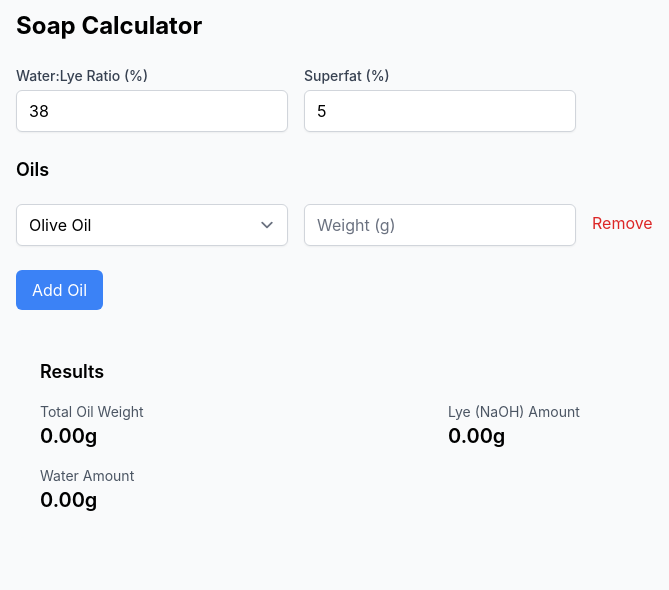
Test: Calculator Component › can remove oils
The image size is (669, 590).
Click the button "Add Oil" at (60, 290), box top-left (16, 270), bottom-right (103, 310)
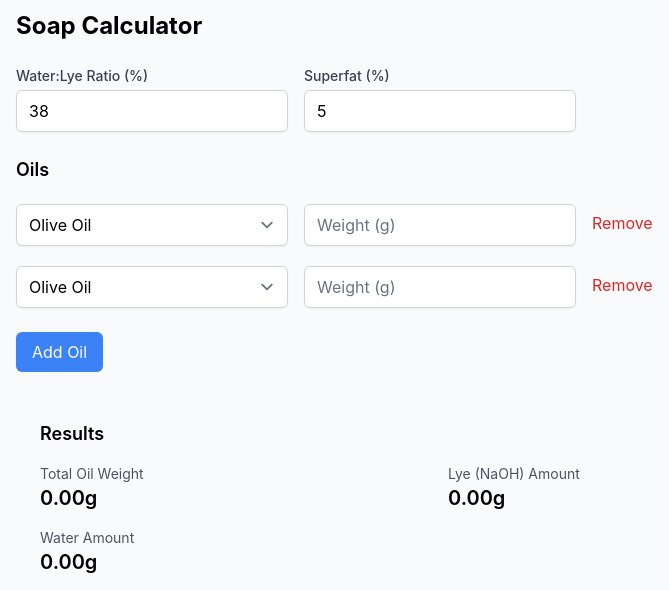
Click the 1st button "Remove" at (622, 223), box top-left (592, 211), bottom-right (653, 235)
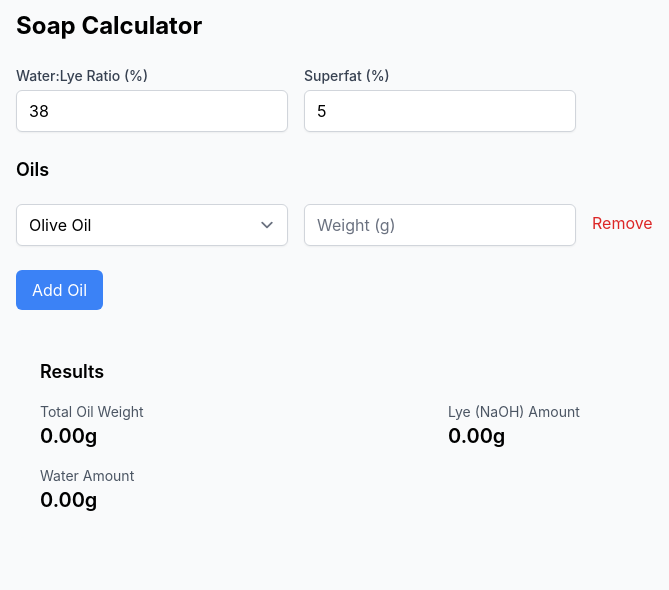
Now the number of number fields with placeholder "Weight (g)" is 1, box top-left (304, 204), bottom-right (576, 246)
